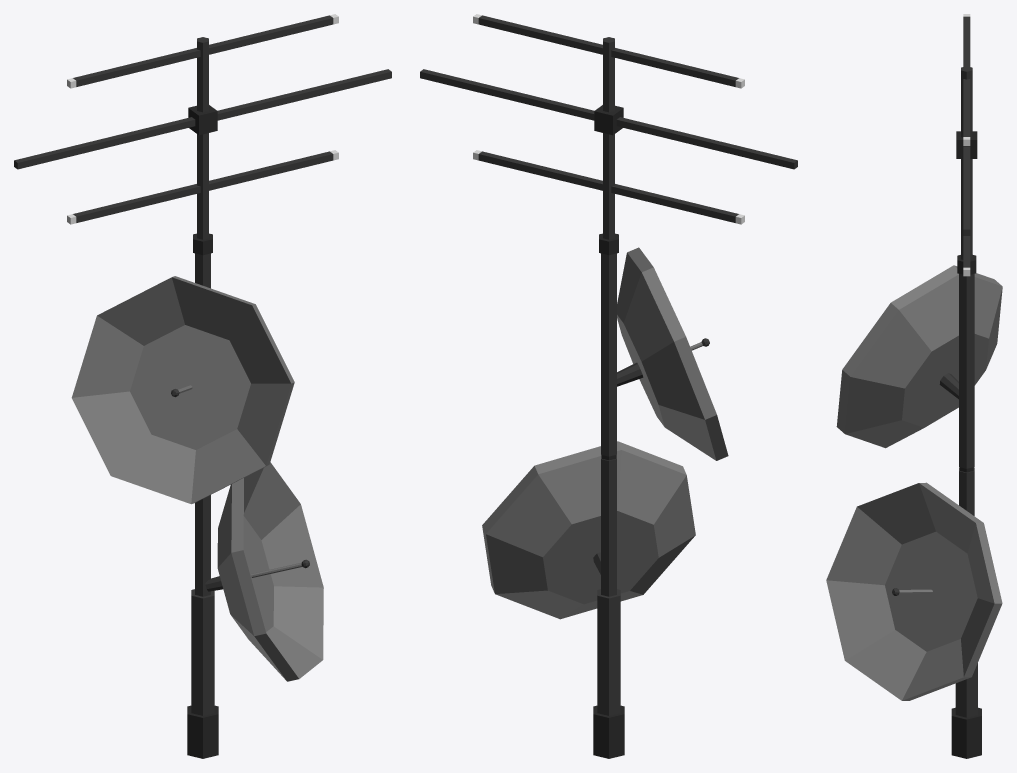
Rendered from SM_BuildingsDecor_20.fbx.
3 renders of one model, left to right at view 1: azimuth 30°, elevation 25°; view 2: azimuth 150°, elevation 25°; view 3: azimuth 270°, elevation 25°, orthographic. The views are drawn at different scales.
Visible parts, largest first — view 1: SM_BuildingsDecor_20; view 2: SM_BuildingsDecor_20; view 3: SM_BuildingsDecor_20.
Boxes of the visible parts, x1,y1,x2,y2 form: SM_BuildingsDecor_20: [14, 14, 391, 758]; SM_BuildingsDecor_20: [420, 14, 797, 758]; SM_BuildingsDecor_20: [826, 14, 1002, 758].
Size of the model in its own units: 1.15 by 2.09 by 0.4907.
